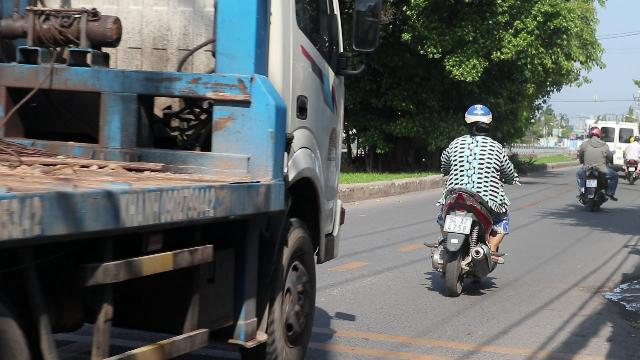helmet: (462, 103, 493, 134)
licenseplate: (443, 214, 472, 234)
motorcyclist: (422, 103, 514, 298)
